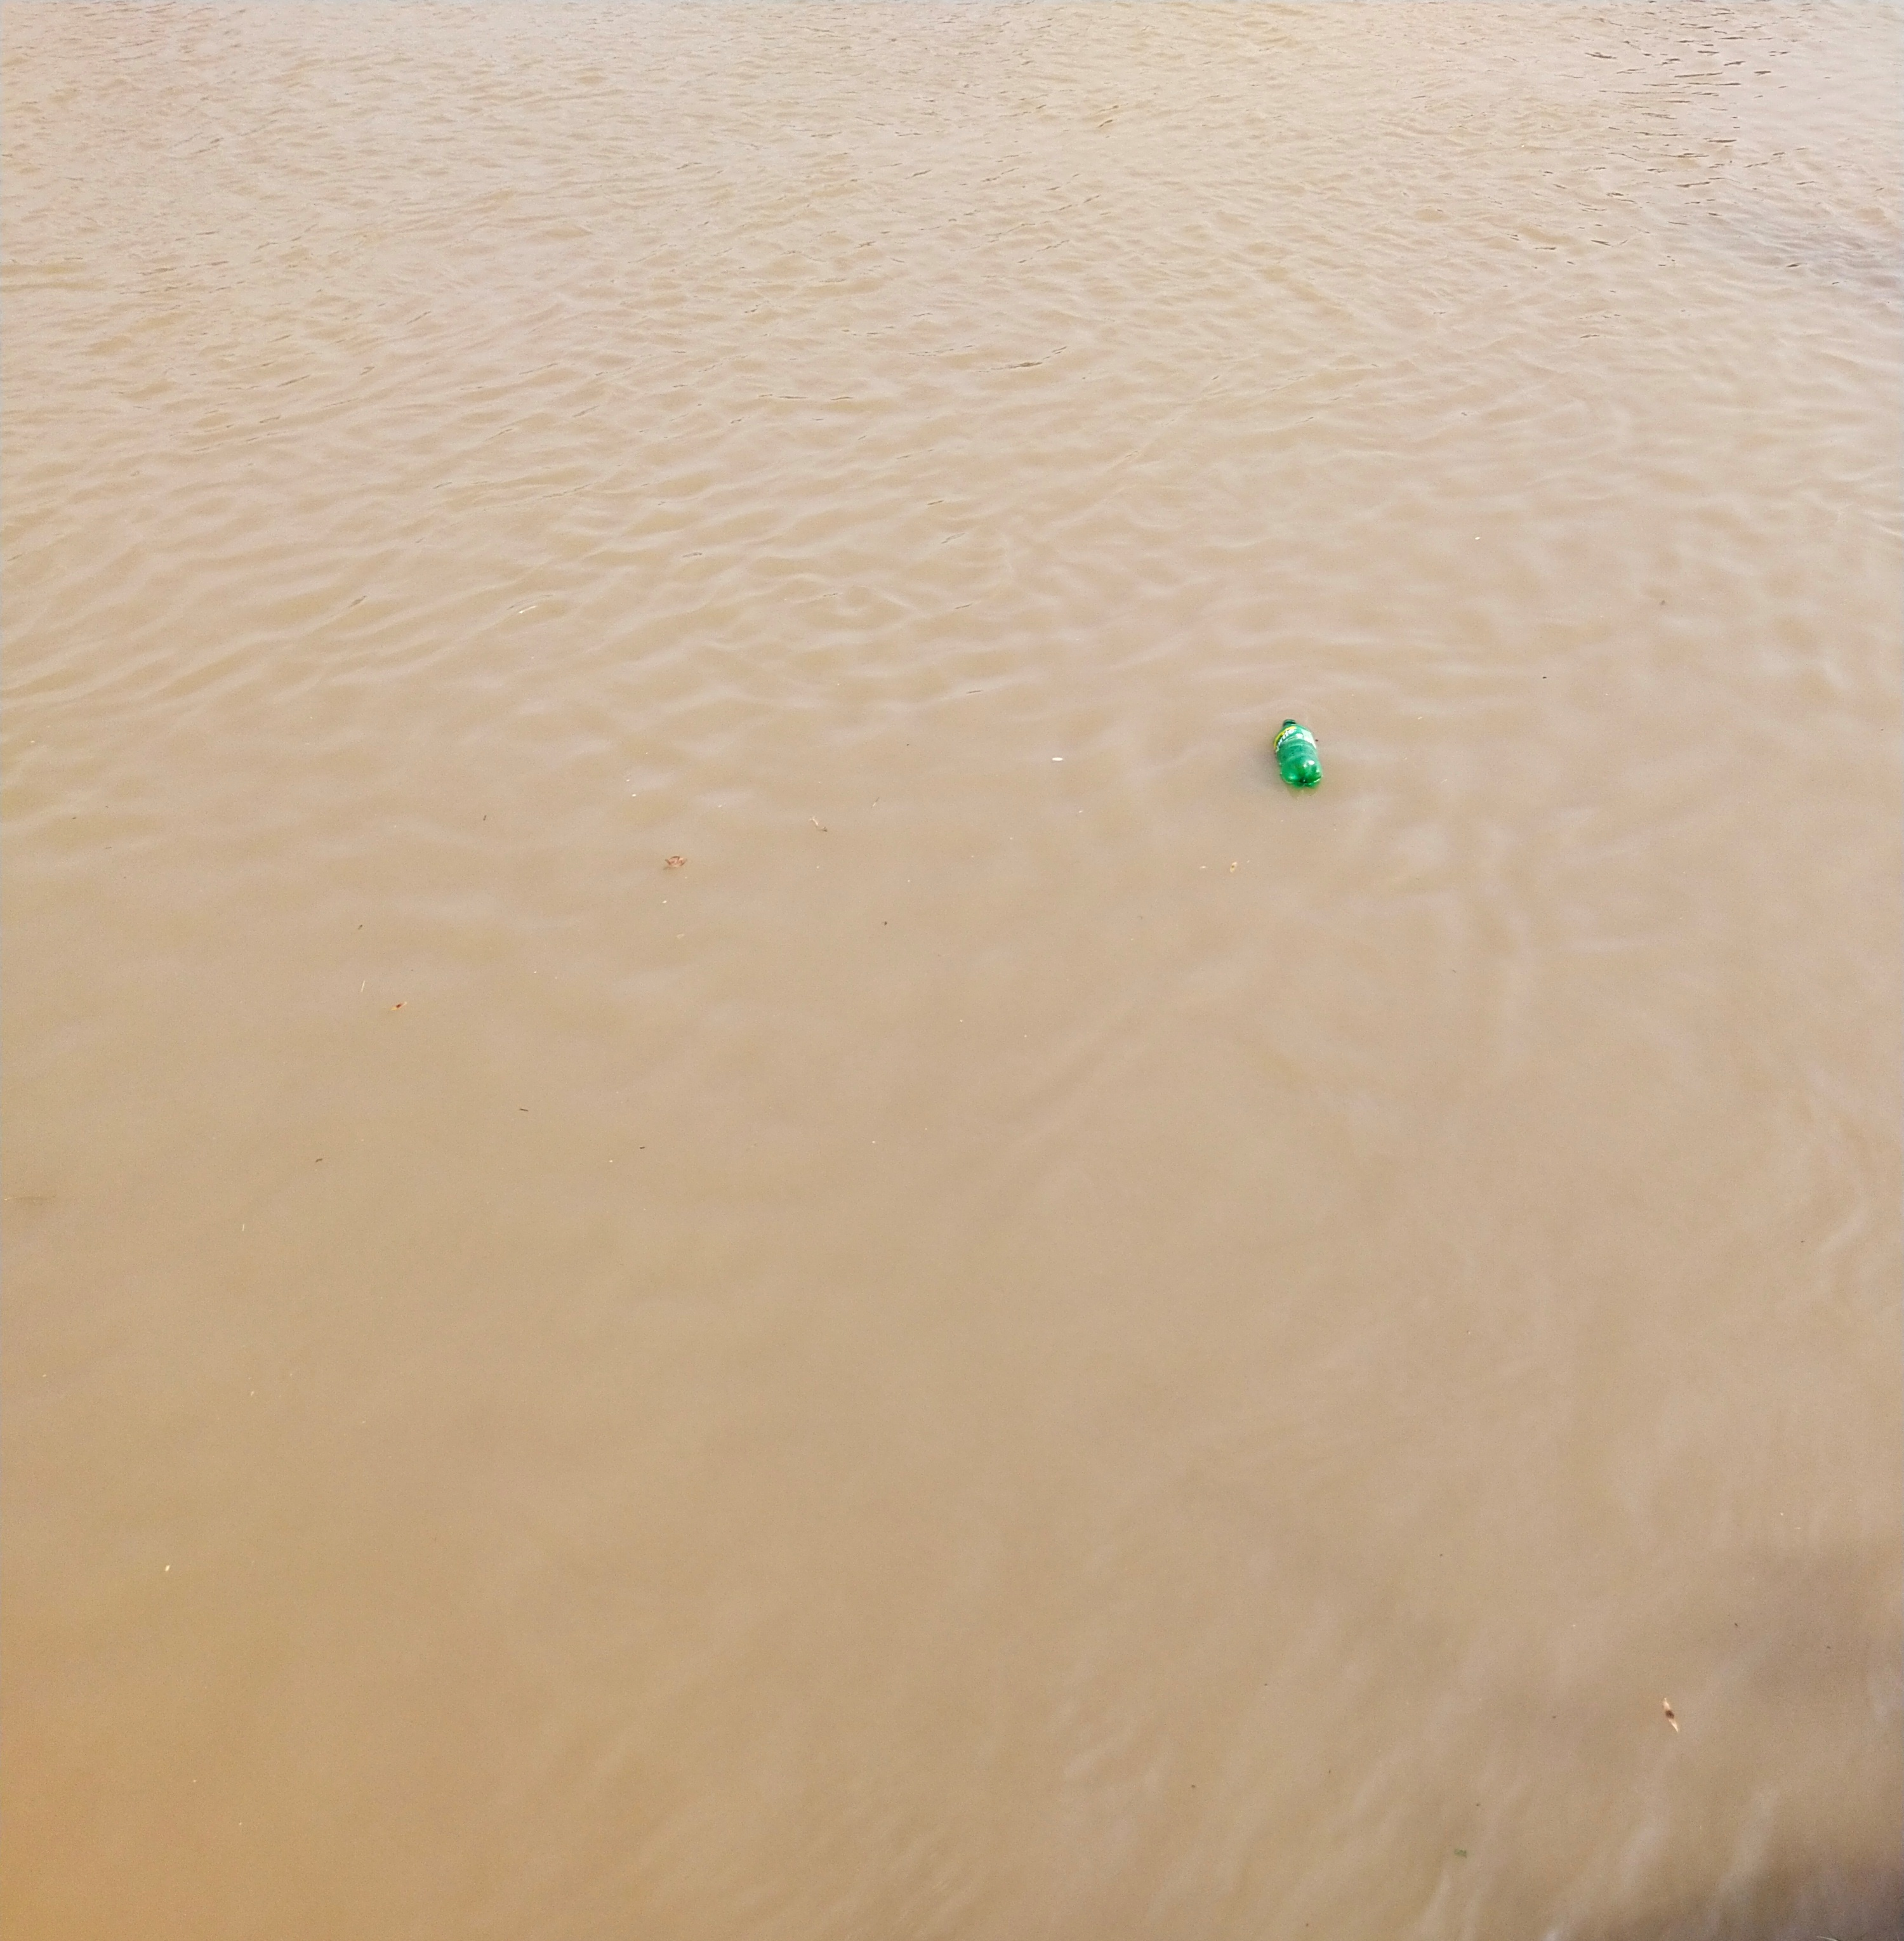Plastic Bottle: (1275, 719, 1322, 788)
